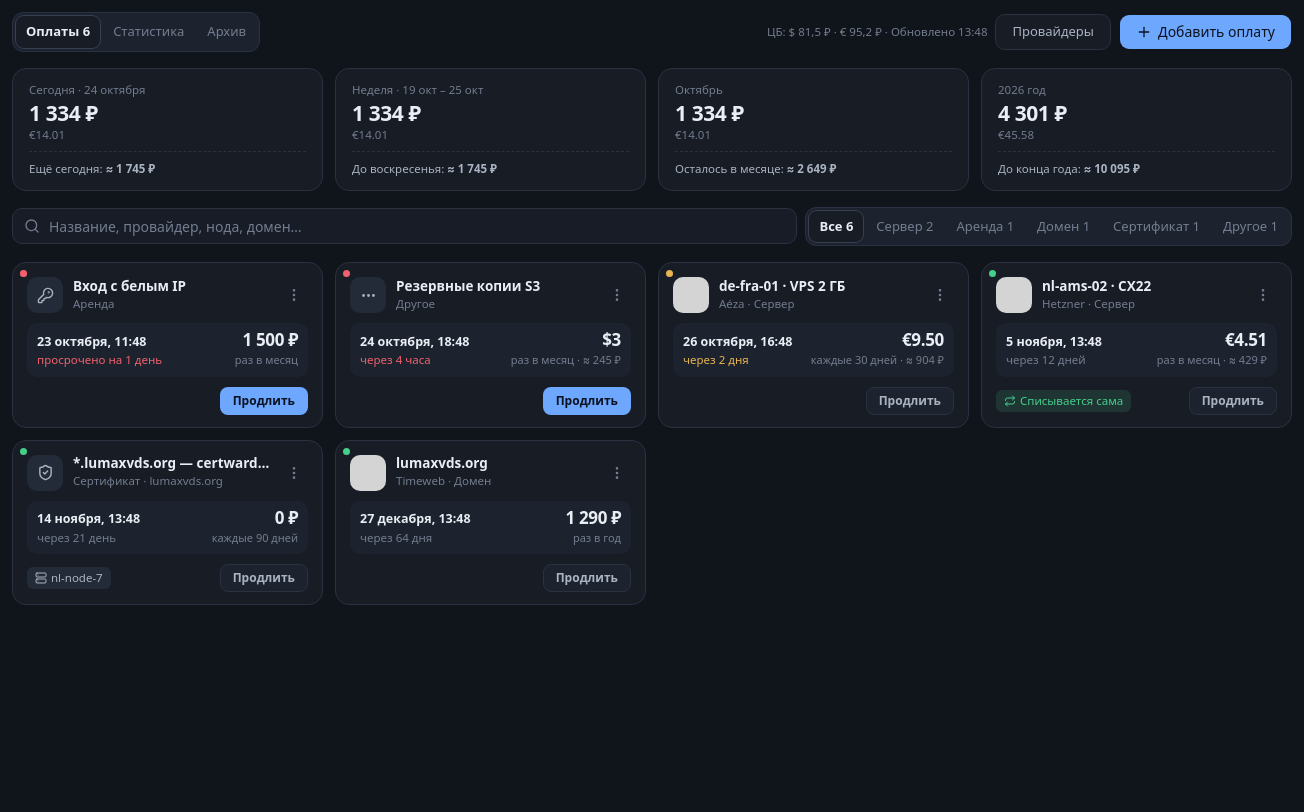
Test case: BillingPage › поиск находит оплату по имени привязанной ноды; список серверов не запрашивается
The image size is (1304, 812).
Expected: the number of elements with test id "billing-card" is 6, [12,262,323,428]; [335,262,646,428]; [658,262,969,428]; [981,262,1292,428]; [12,440,323,605]; [335,440,646,605]
Type "nl-node" into the field named "Поиск по оплатам" at {"x": 405, "y": 226}, box [12,208,797,244]
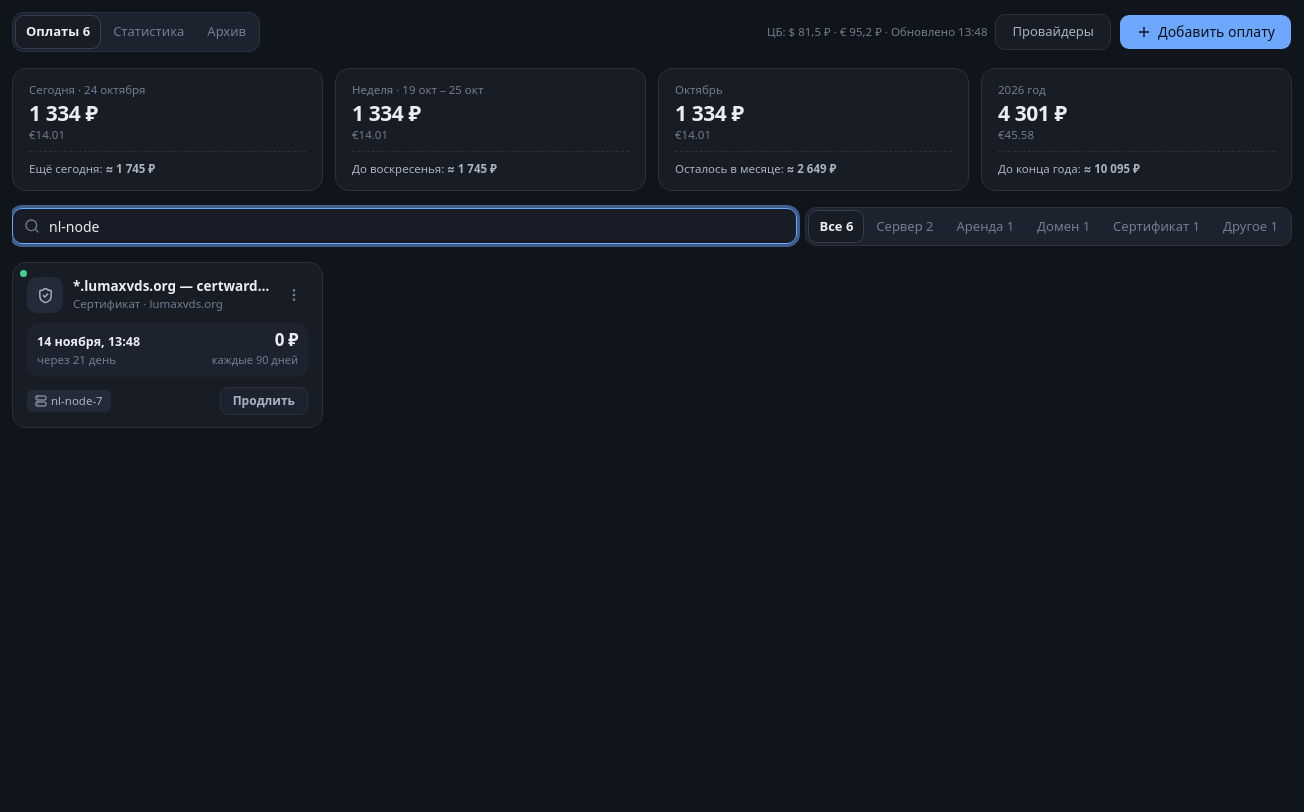
Expected: the text "*.lumaxvds.org — certwarden" is shown, [73,278,270,295]
Expected: the number of elements with test id "billing-card" is 1, [12,262,323,428]
